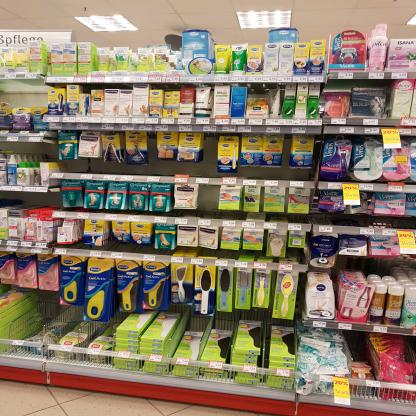Void: (29, 294, 46, 341), (347, 332, 368, 362), (8, 86, 43, 104), (195, 186, 211, 213), (202, 139, 214, 168)
